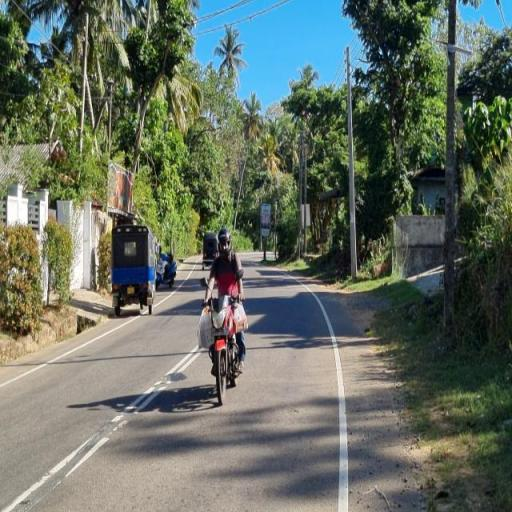double_white_line: (109, 340, 204, 434)
